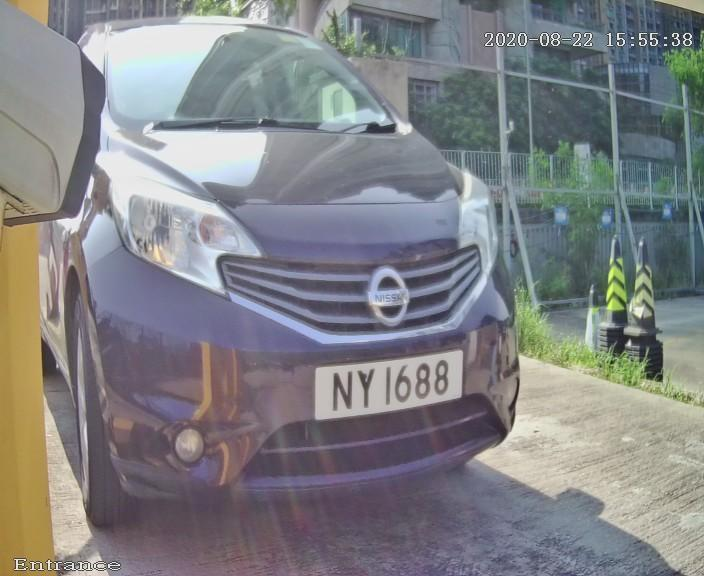Car: (1, 6, 569, 559)
License Plate: (286, 327, 487, 440)
